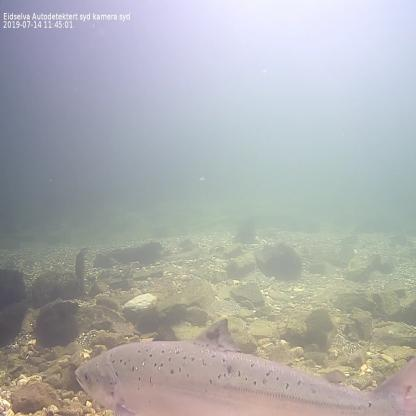salmon: (73, 311, 416, 416)
